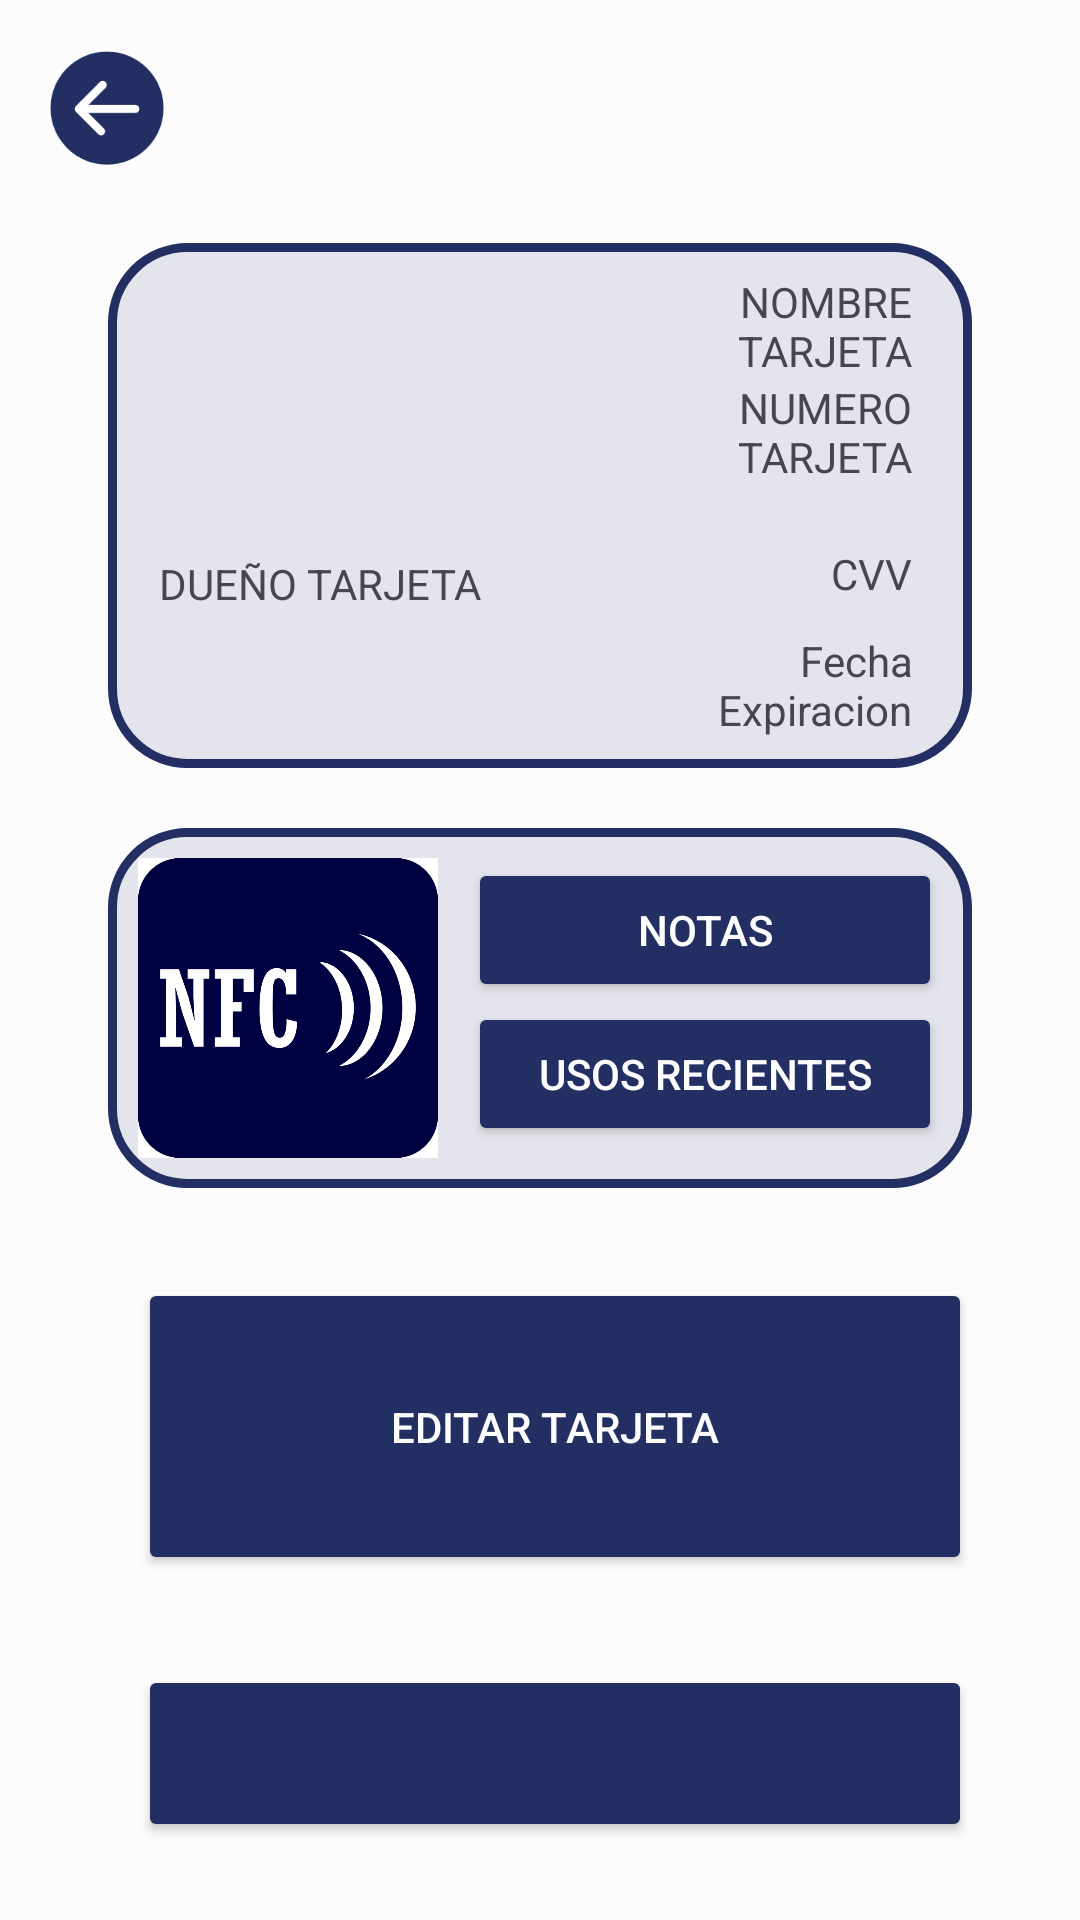

Named icons in this screenshot (1080px x 1920px) and their centers, point (x, y):
goback: point (107, 108)
